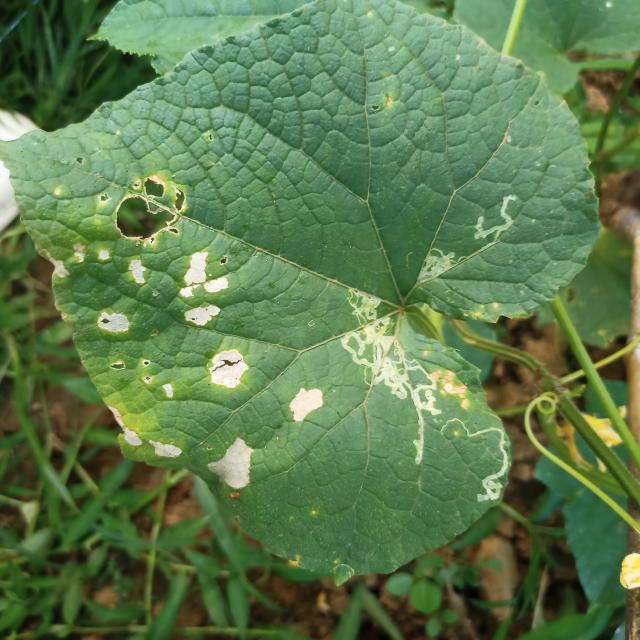disease_cucumber: (28, 175, 331, 528)
